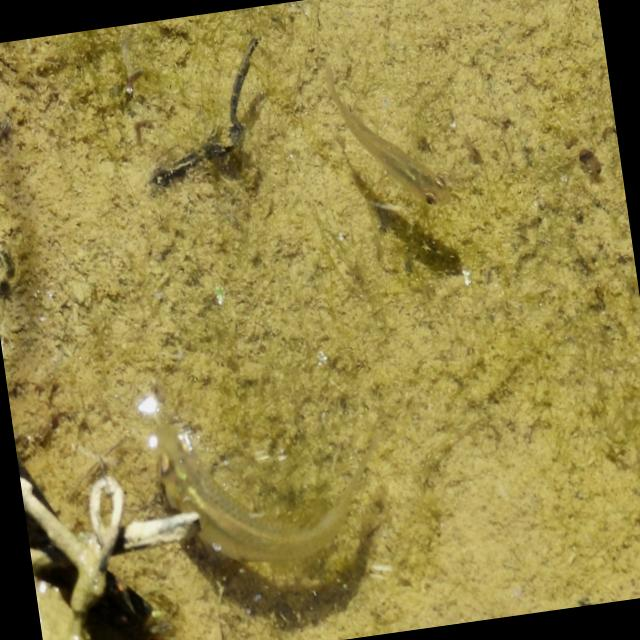Sivrisinek Baligi: (126, 352, 394, 610), (321, 57, 461, 224)
